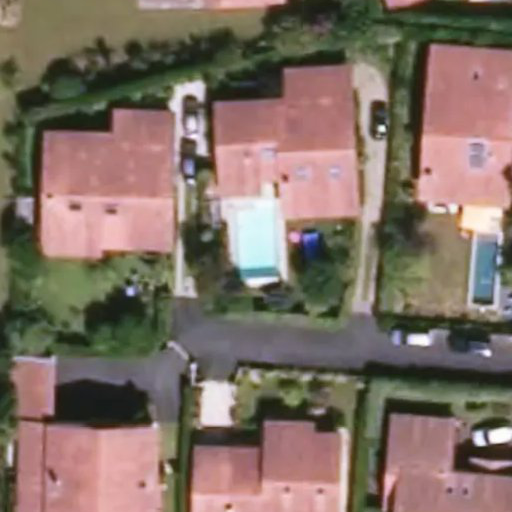pool: (235, 203, 276, 280)
